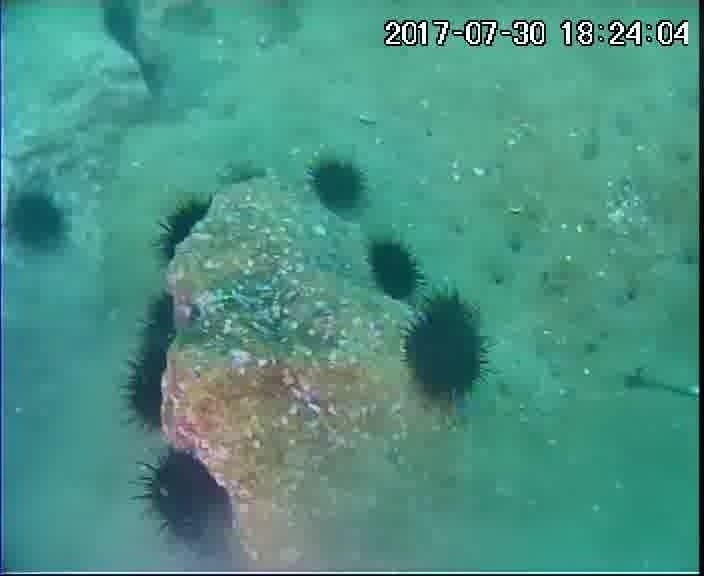echinus: (398, 291, 492, 408), (134, 446, 236, 549), (119, 342, 179, 435), (150, 194, 217, 272), (2, 185, 72, 257), (363, 236, 426, 306), (305, 154, 371, 218), (133, 289, 184, 367), (95, 1, 147, 63), (218, 163, 270, 203)
